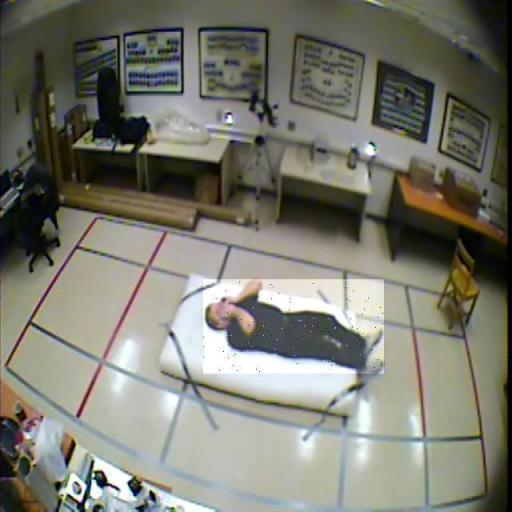Fall: (203, 279, 384, 374)
